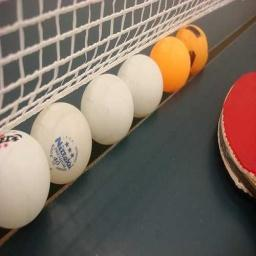orange: (149, 37, 192, 95), (175, 25, 208, 83)
white: (30, 102, 94, 186), (0, 130, 51, 230), (80, 74, 135, 147), (116, 54, 164, 119)
